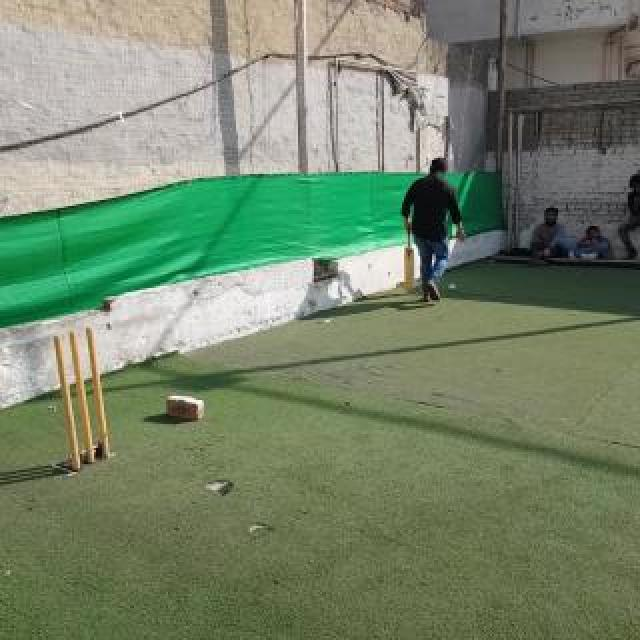ball: (448, 284, 456, 290)
bat: (405, 224, 415, 290)
